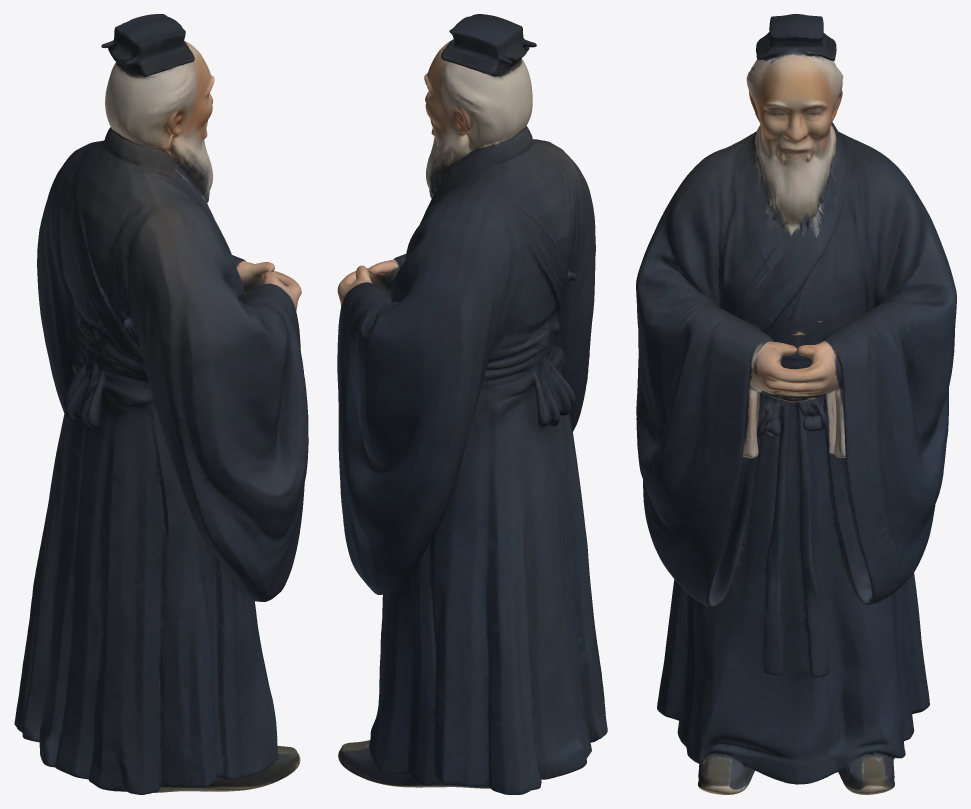
Rendered from confucius.glb.
3 renders of one model, left to right at view 1: azimuth 30°, elevation 25°; view 2: azimuth 150°, elevation 25°; view 3: azimuth 270°, elevation 25°, orthographic.
Parts seen in each view (by area): view 1: tripo_node_90d99a40-a545-402f-a13d-e964f8c3101a; view 2: tripo_node_90d99a40-a545-402f-a13d-e964f8c3101a; view 3: tripo_node_90d99a40-a545-402f-a13d-e964f8c3101a.
Boxes of the visible parts, x1,y1,x2,y2 form: tripo_node_90d99a40-a545-402f-a13d-e964f8c3101a: [14, 14, 308, 794]; tripo_node_90d99a40-a545-402f-a13d-e964f8c3101a: [337, 14, 607, 794]; tripo_node_90d99a40-a545-402f-a13d-e964f8c3101a: [636, 14, 956, 794].
Bounding box in the file's own units: 0.346 × 1 × 0.3959.
Materials: 1 (1 with a texture image).
